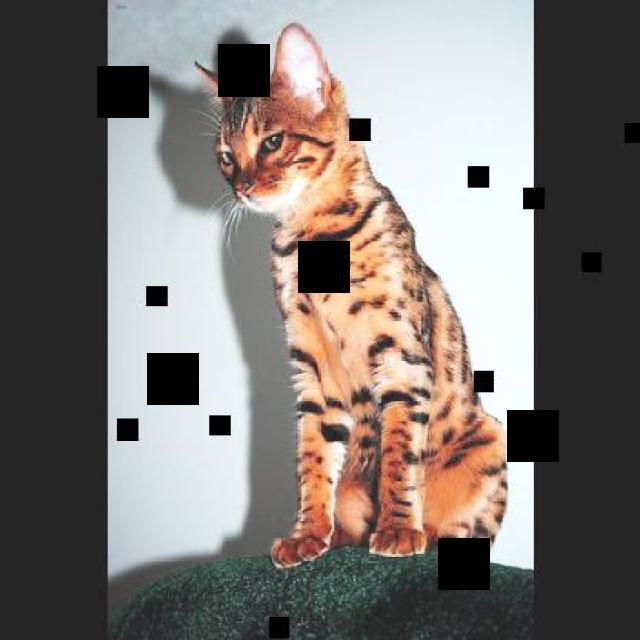unauthorized: (191, 20, 509, 569)
